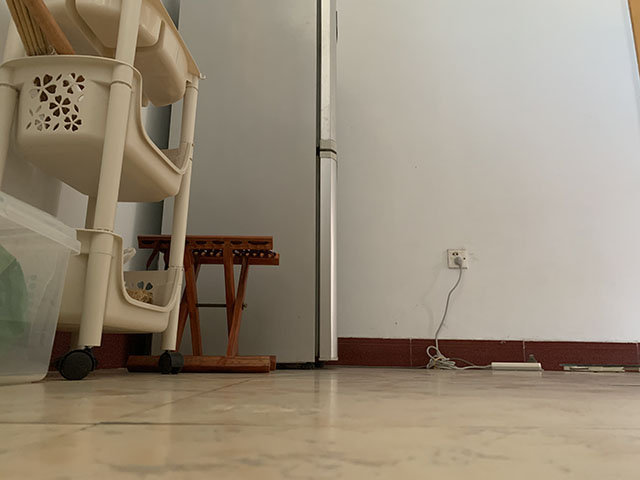stool: (125, 234, 281, 375)
wire: (426, 257, 545, 372)
